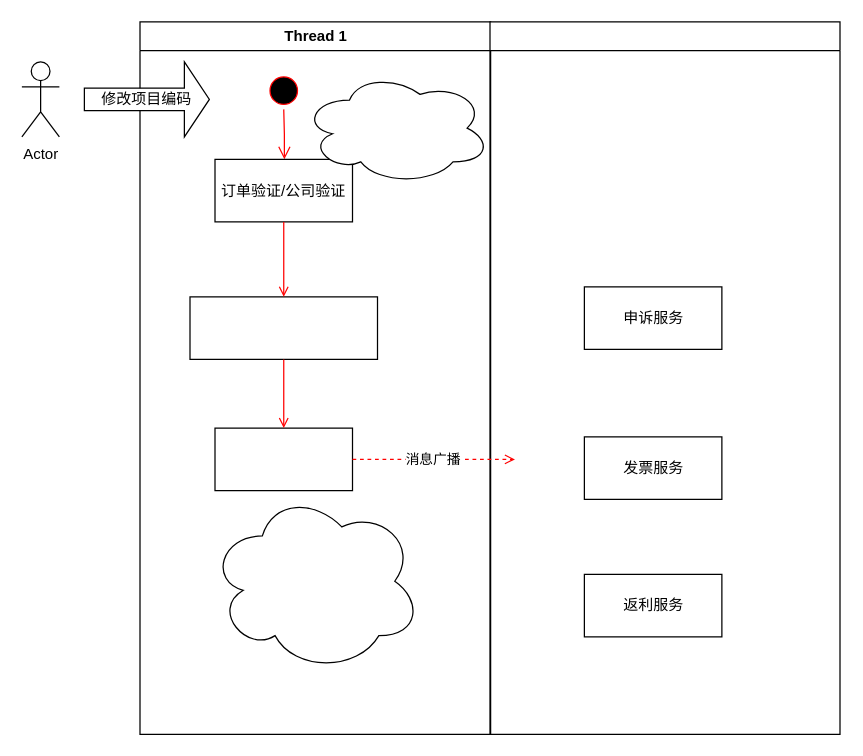
Image size: 863x756. Some labels were removed from this diagram. The shapes that lost their labels are listed below. From the top down, each one's centre as x and y in pixels, then its label:
At [396,127]: "是否该公司订单&&公司是否项目制公司".
At [283,327]: "是否当前项目权限 是否有修改项目的权限".
At [283,459]: "更新项目code".
At [314,580]: "乐观锁更新 order， order_settle, waybill".
